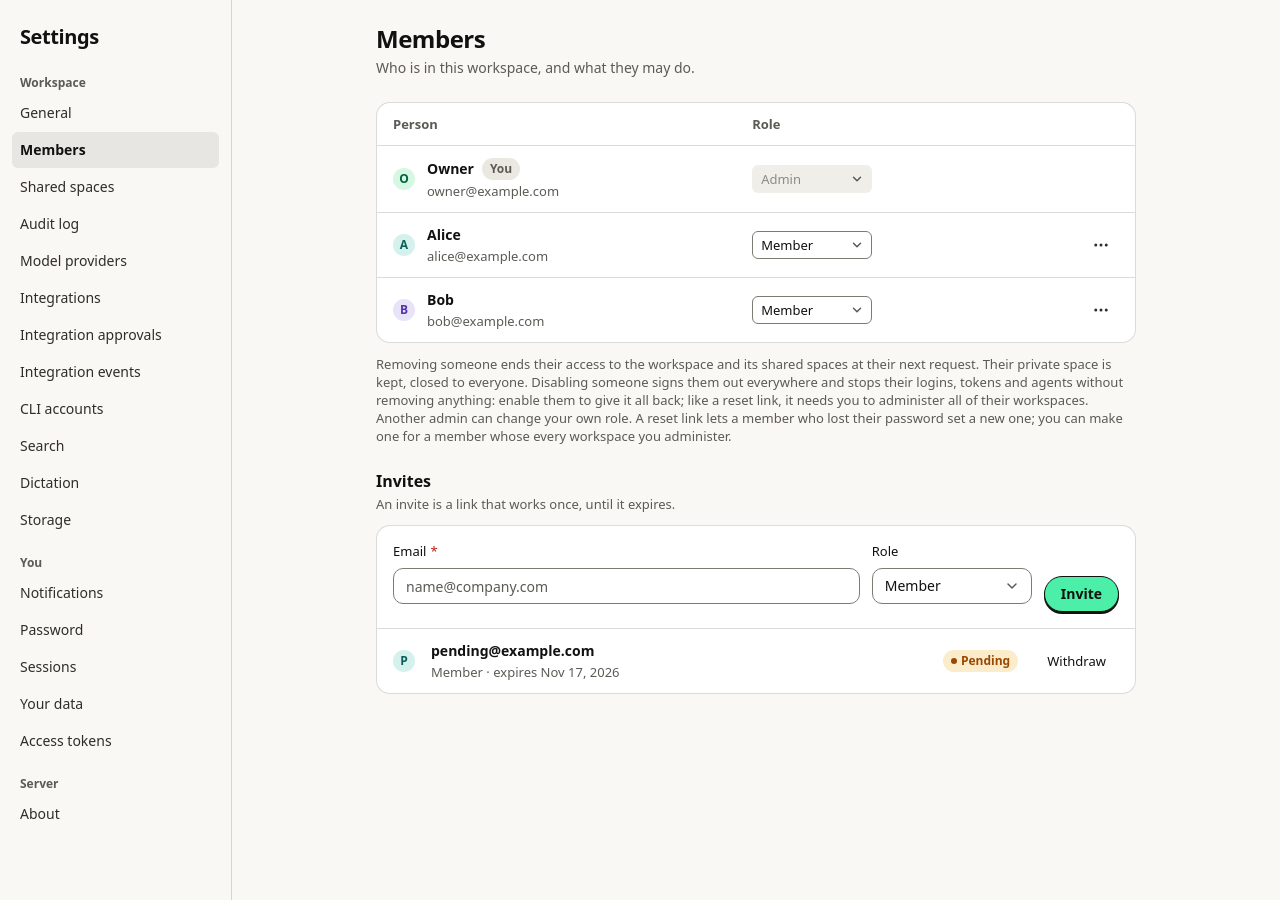
Test: removing a member › Cancel sends nothing
The width and height of the screenshot is (1280, 900).
Expected: the text "bob@example.com" is shown, top-left (427, 312), bottom-right (544, 330)
Step 1. Click the button named "More actions for Bob" → (1101, 310), box top-left (1083, 292), bottom-right (1119, 328)
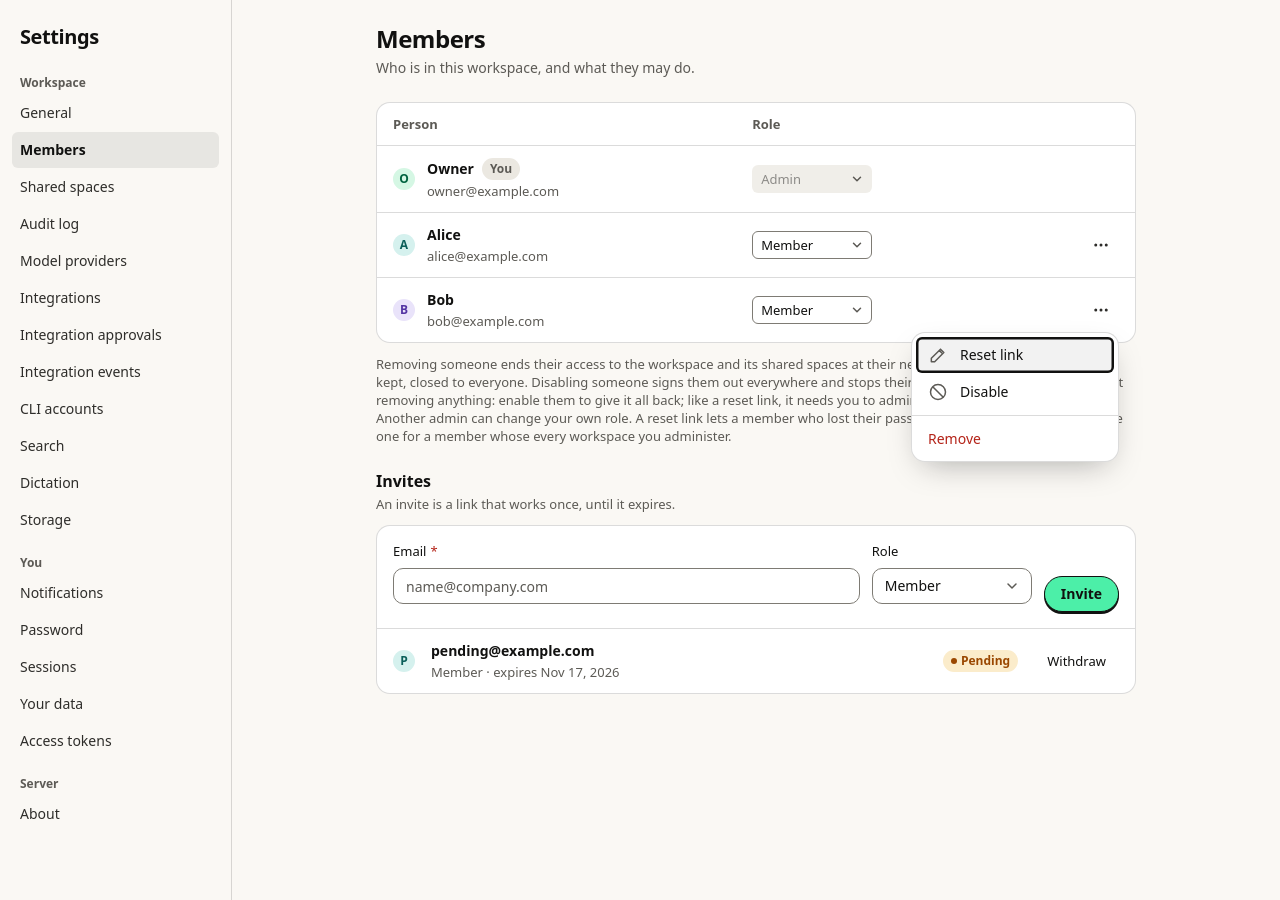
Step 2. Click the menu item "Remove" → (1015, 439), box top-left (916, 421), bottom-right (1114, 457)
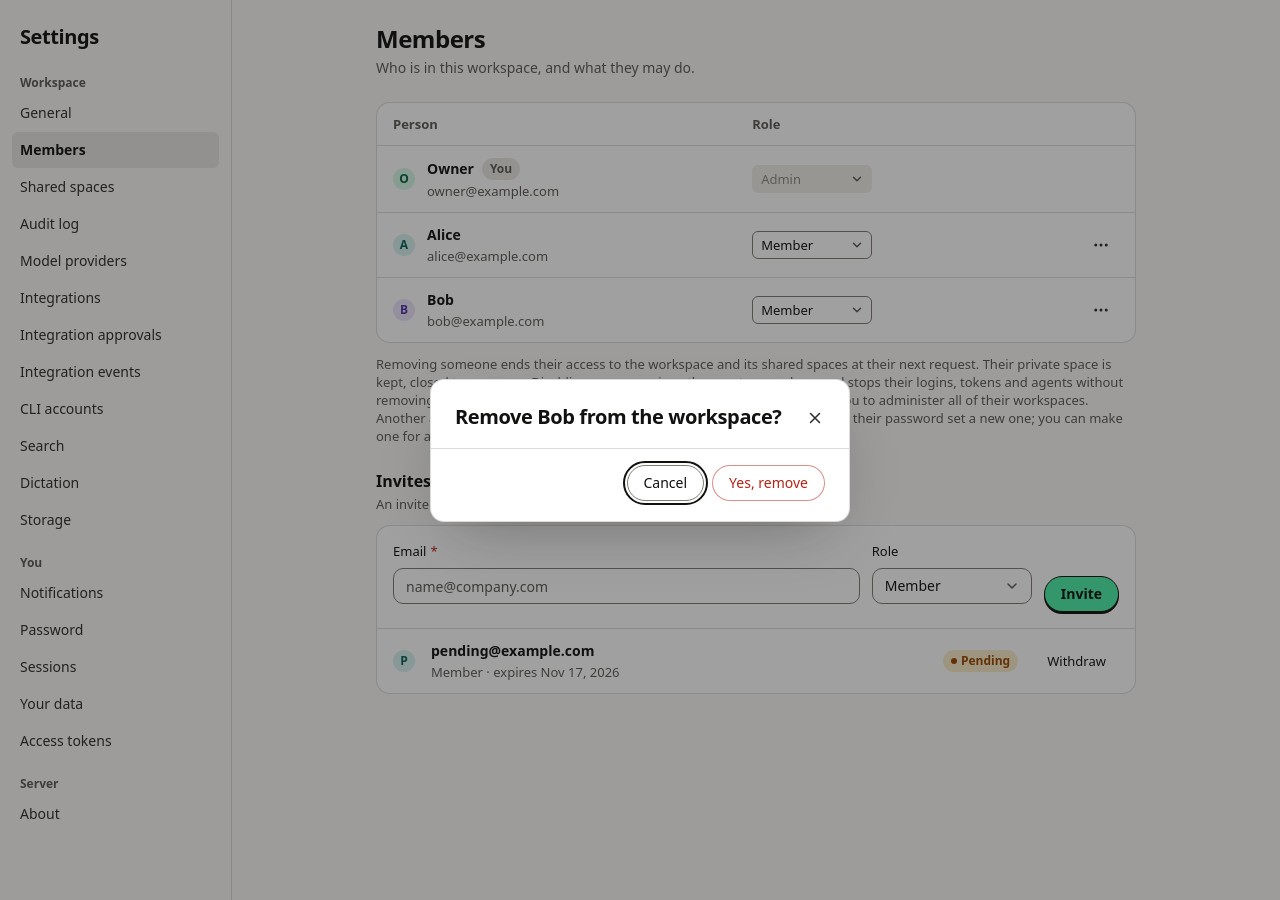
Expected: the dialog is shown, top-left (430, 378), bottom-right (850, 522)
Step 3. Click the button "Cancel" → (665, 482), box top-left (626, 464), bottom-right (704, 500)
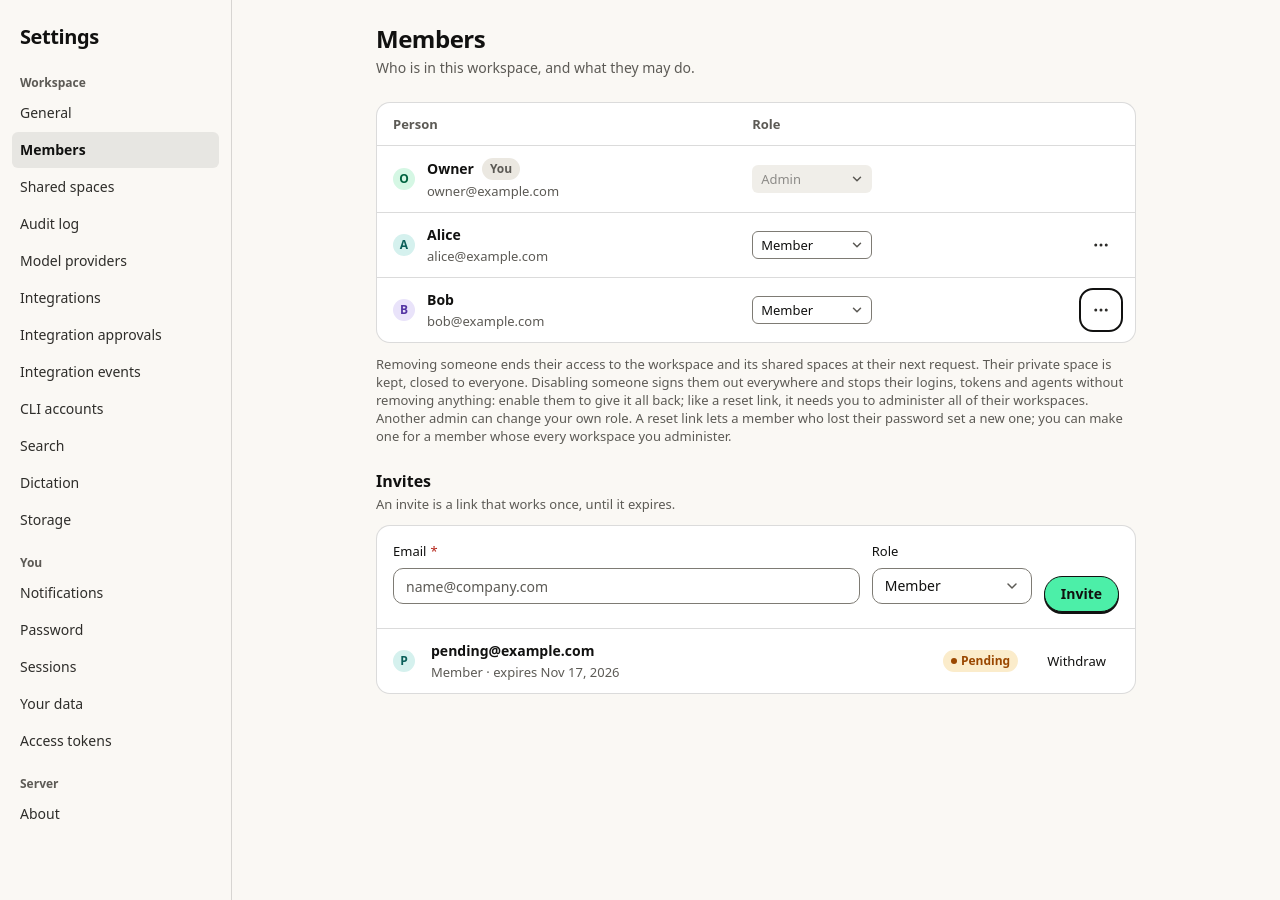
Expected: the dialog is gone
